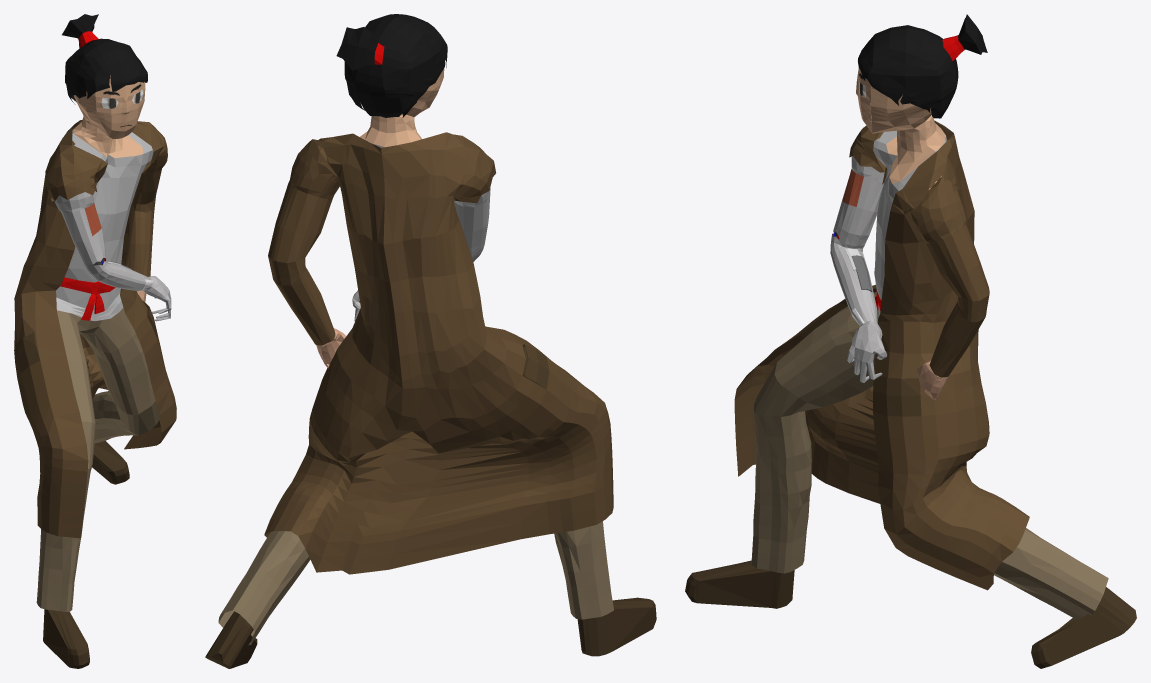
Rendered from One_RR_000015.obj.
3 renders of one model, left to right at view 1: azimuth 30°, elevation 25°; view 2: azimuth 150°, elevation 25°; view 3: azimuth 270°, elevation 25°, orthographic. The views are drawn at different scales.
Visible parts, largest first — view 1: Hair_Cube.004; view 2: Hair_Cube.004; view 3: Hair_Cube.004.
Boxes of the visible parts, <box> form: Hair_Cube.004: <box>14,14,176,668</box>; Hair_Cube.004: <box>205,14,656,668</box>; Hair_Cube.004: <box>685,14,1136,668</box>.
Size of the model in its own units: 1.43 by 3.63 by 2.29.
